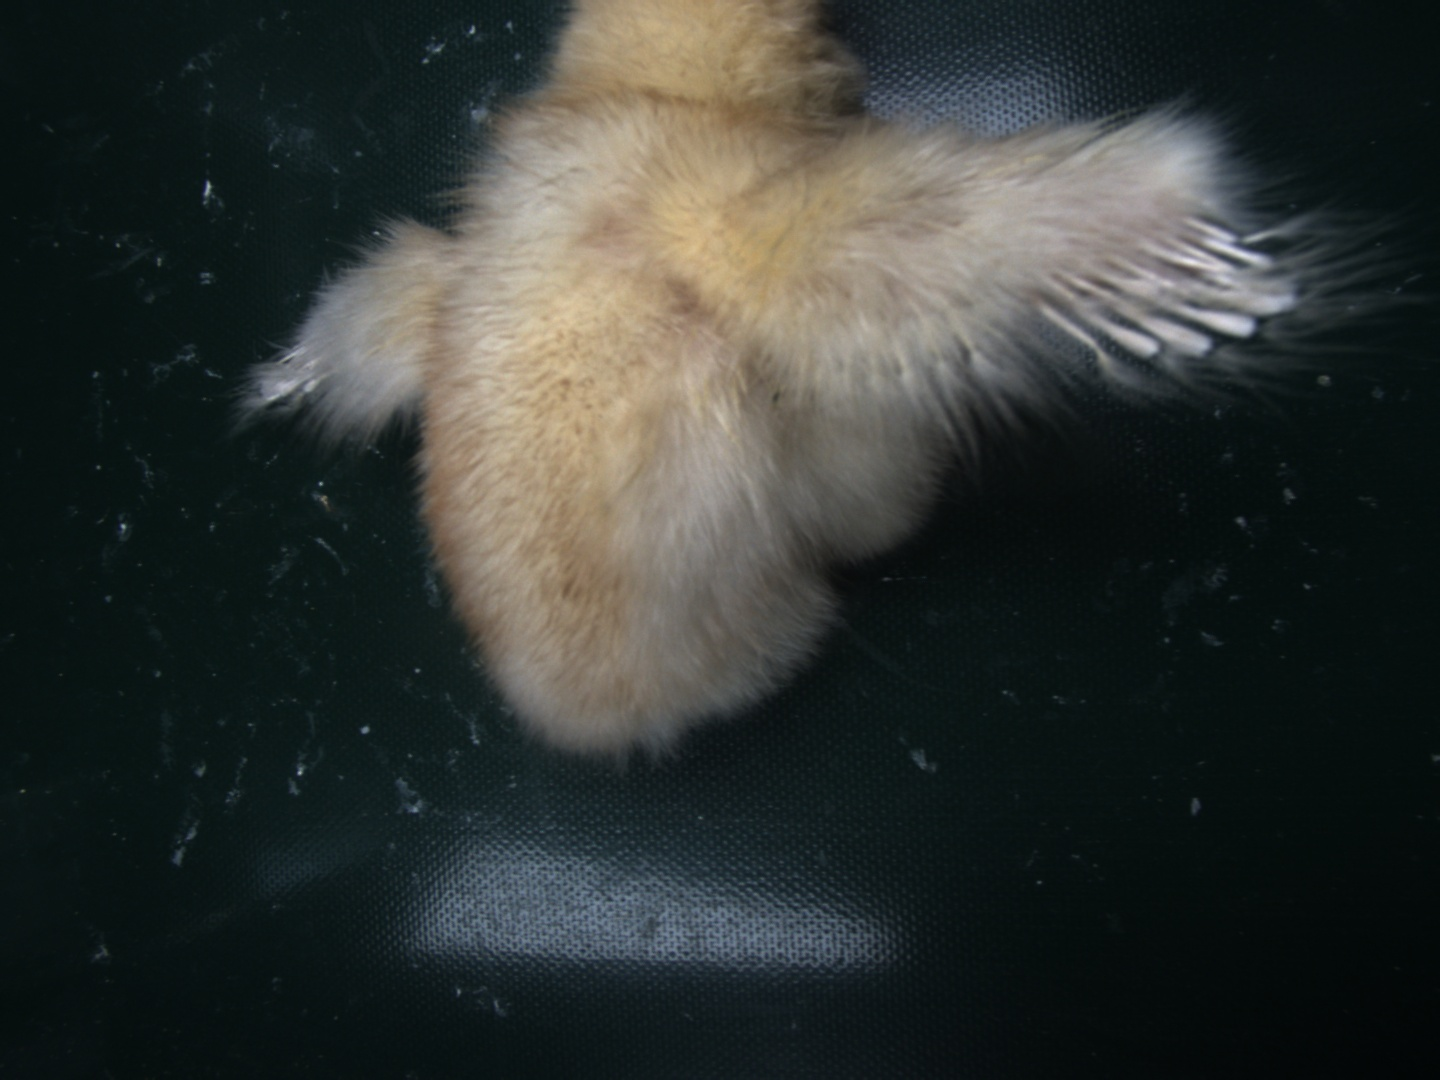female: (1042, 211, 1304, 361)
